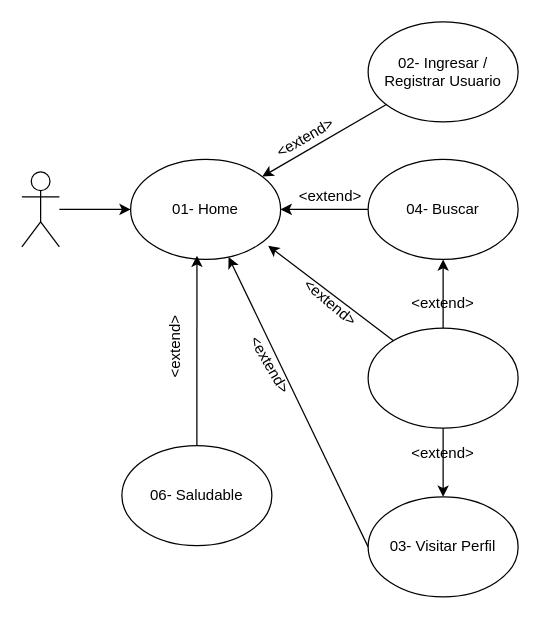
Image size: 540x619. Some labels were removed from this diagram. The centre of each missing label's shape, as x and y in pixels:
05- Publicar: the point at 442,377
Actor: the point at 40,209
